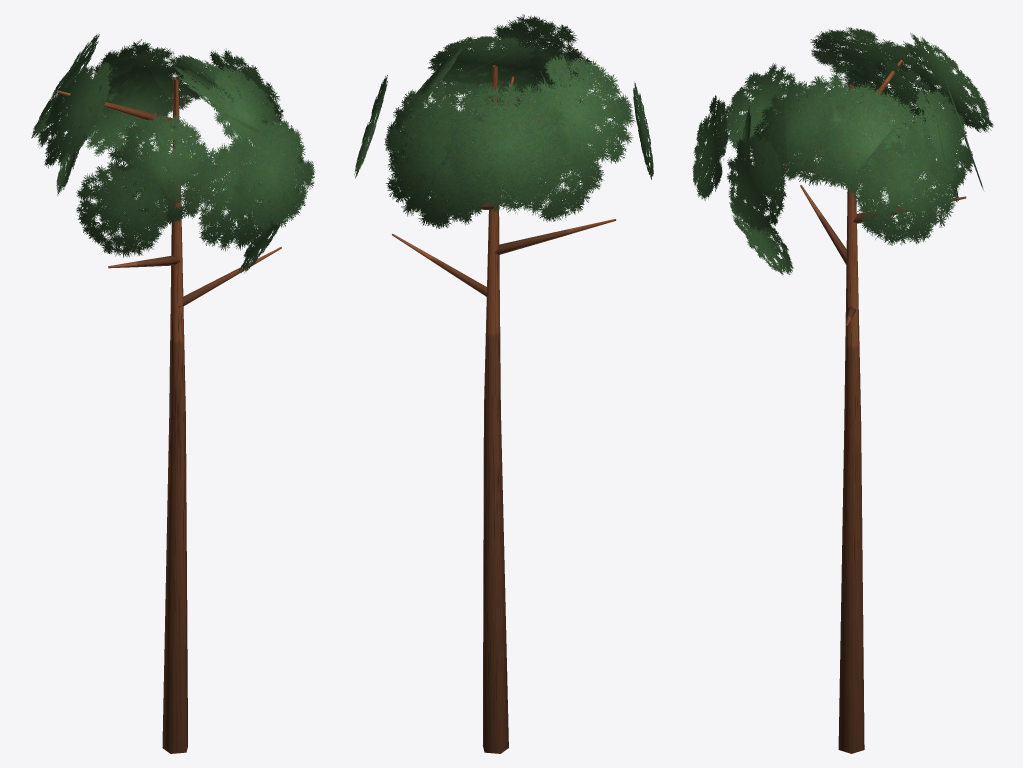
File: Pine_LOD1.fbx
The picture shows the model from 3 angles, left to right: view 1: azimuth 30°, elevation 25°; view 2: azimuth 150°, elevation 25°; view 3: azimuth 270°, elevation 25°; orthographic projection. The views are drawn at different scales.
Parts seen in each view (by area): view 1: Pine_LOD1; view 2: Pine_LOD1; view 3: Pine_LOD1.
Part boxes in pixels (left/top/right/bottom): Pine_LOD1: left=31, top=34, right=315, bottom=753; Pine_LOD1: left=354, top=14, right=653, bottom=753; Pine_LOD1: left=692, top=27, right=993, bottom=753.
Size of the model in its own units: 7.19 by 18.61 by 7.82.
1 material, 1 textured.
